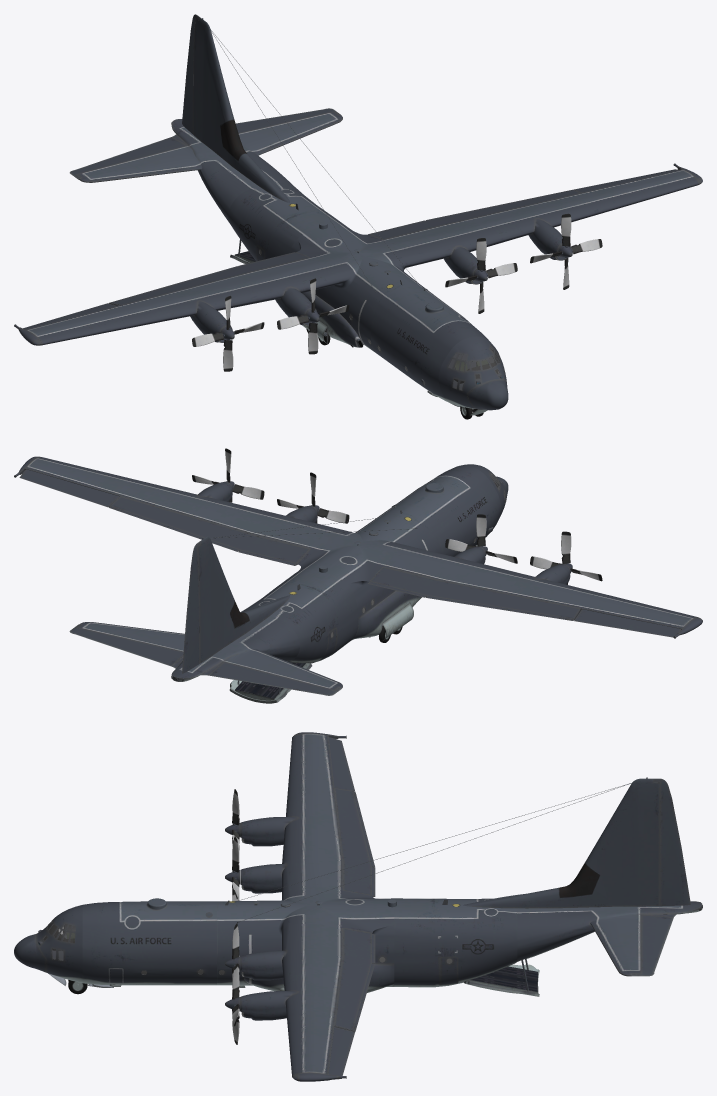
The model's file is c-130j_super_hercules.glb.
3 renders of one model, top to bottom at view 1: azimuth 30°, elevation 25°; view 2: azimuth 150°, elevation 25°; view 3: azimuth 270°, elevation 25°, orthographic. The views are drawn at different scales.
Visible parts, largest first — view 1: Chassis_0; view 2: Chassis_0, open_1; view 3: Chassis_0.
Part boxes in pixels (left/top/right/bottom): Chassis_0: left=14, top=14, right=702, bottom=410; Chassis_0: left=14, top=448, right=702, bottom=703; open_1: left=369, top=604, right=413, bottom=642; Chassis_0: left=14, top=732, right=702, bottom=1081.
Bounding box in the file's own units: 0.4075 × 0.1173 × 0.3429.
2 materials, 2 textured.
